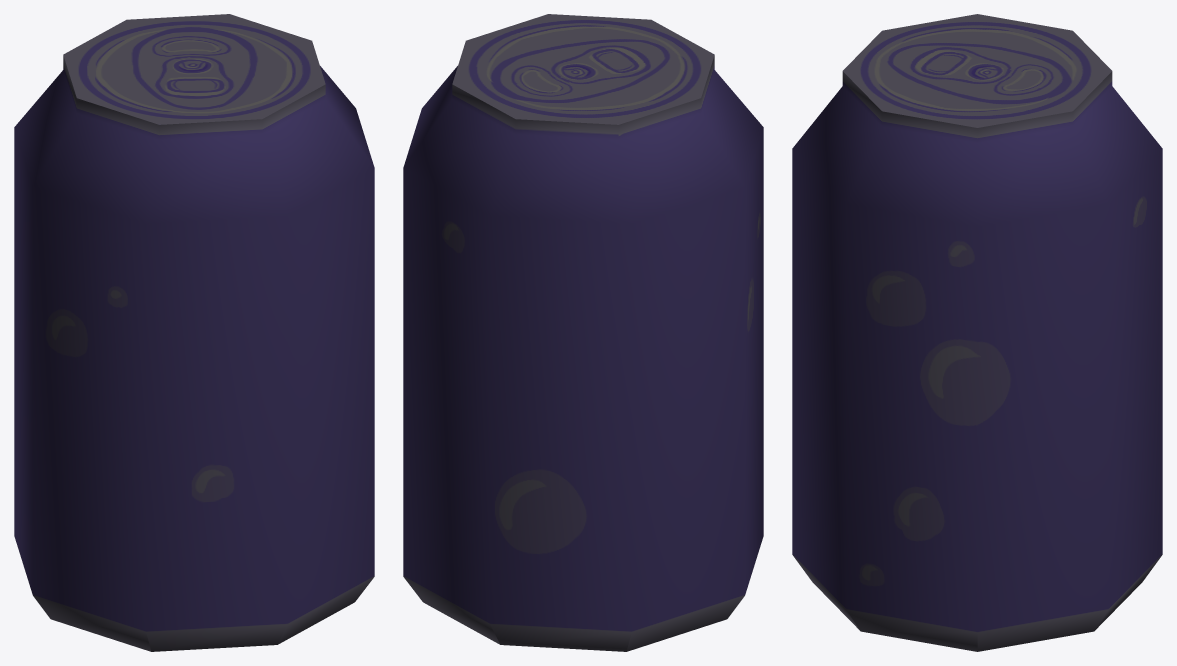
The model's file is soda_export02.fbx.
3 views of the same model, side by side, from view 1: azimuth 30°, elevation 25°; view 2: azimuth 150°, elevation 25°; view 3: azimuth 270°, elevation 25° (orthographic).
Parts seen in each view (by area): view 1: pCylinder1; view 2: pCylinder1; view 3: pCylinder1.
Part boxes in pixels (box(x1,y1,x2,y2)): pCylinder1: box(14, 14, 374, 651); pCylinder1: box(403, 14, 763, 651); pCylinder1: box(792, 14, 1162, 651).
Size of the model in its own units: 0.6798 by 1.03 by 0.6798.
